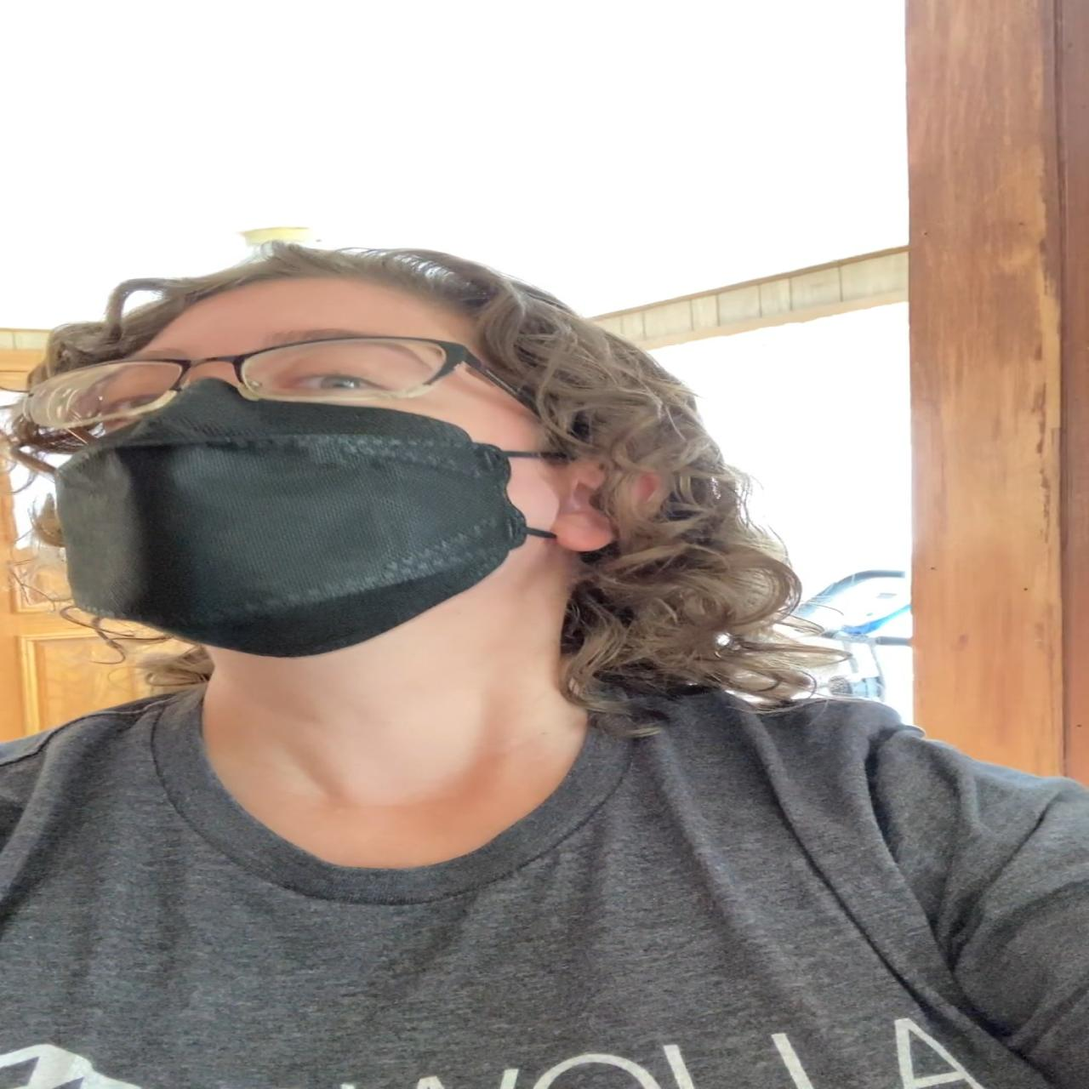NO_Safety_Vest: (0, 684, 1054, 1089)
Person: (1, 229, 1089, 1089)
